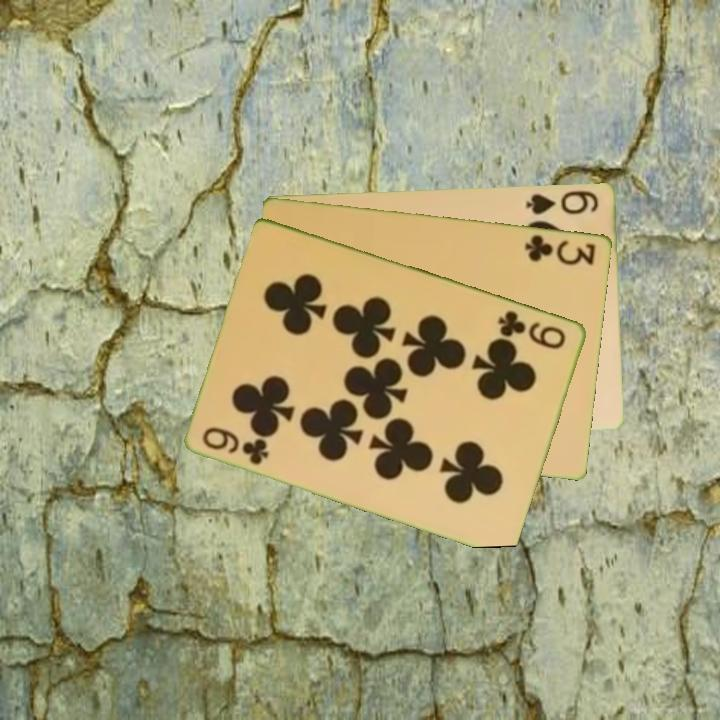3c: (522, 231, 599, 268)
6s: (522, 186, 602, 217)
9c: (494, 306, 569, 352), (199, 423, 273, 468)
